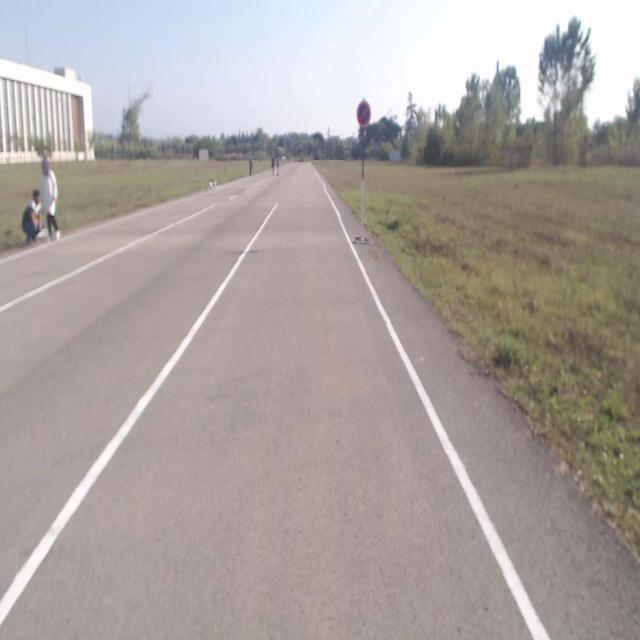parkyasak: (357, 99, 370, 126)
